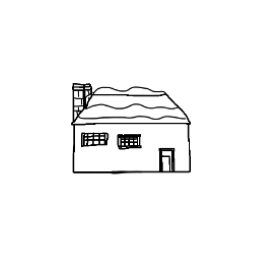chimney: (68, 77, 102, 121)
closed_window: (79, 129, 112, 151), (115, 132, 144, 155)
door: (155, 143, 179, 177)
roof: (63, 83, 195, 130)
small_house: (3, 2, 260, 260)
wall: (69, 120, 195, 178)
